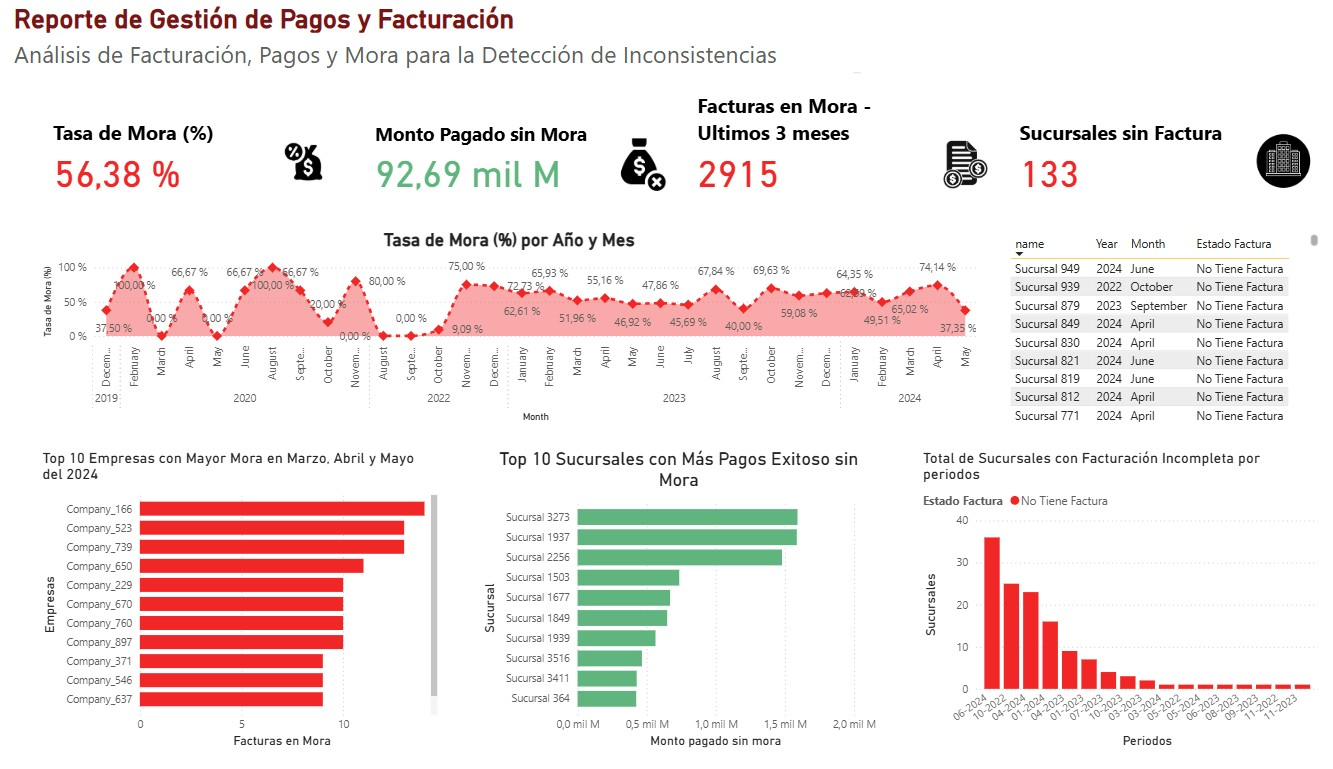

The dashboard page shown, as its layout file describes it:
{"tool":"powerbi","page":{"name":"Dashboard","canvas":[1600,900],"ordinal":0},"visuals":[{"type":"image","box":[1172.6,396.2,107.4,107.4],"z":0},{"type":"shape","box":[71.3,260.4,1467.6,618.2],"z":1000},{"type":"cardVisual","title":"Card Panel/KPIs","fields":{"Data":["T_facturas.Tasa de Mora (%)","T_facturas.MontoPagadoSinMora","T_facturas.Total_FacturasMora","T_sucursales.Total_NoTieneFactura"]},"box":[71.3,107.6,1477.8,139.6],"z":2000},{"type":"textbox","title":"Reporte de Gestión de Pagos y Facturación","box":[39.3,23.3,916.4,84.4],"z":3000},{"type":"areaChart","title":"Tasa de Mora (%) por Año y Mes","fields":{"Category":["T_facturas.period.Variation.Date Hierarchy.Year","T_facturas.period.Variation.Date Hierarchy.Month"],"Y":["T_facturas.Tasa de Mora (%)"]},"box":[71.3,282.2,1076.4,224],"z":4000},{"type":"clusteredBarChart","title":"Top 10 Sucursales con Más Pagos Exitoso sin Mora","fields":{"Category":["T_sucursales.name"],"Y":["T_facturas.MontoPagadoSinMora"]},"box":[574.5,532.4,459.6,346.2],"z":5000},{"type":"tableEx","fields":{"Values":["T_sucursales.name","T_sucursales.starts_at.Variation.Date Hierarchy.Year","T_sucursales.starts_at.Variation.Date Hierarchy.Month","T_sucursales.Estado Factura"]},"box":[1176.7,282.2,362.2,224],"z":6000},{"type":"clusteredColumnChart","title":"Total de Sucursales con Facturación Incompleta por periodos","fields":{"Category":["T_sucursales.PeriodoSucursal"],"Y":["CountNonNull(T_sucursales.name)"],"Series":["T_sucursales.Estado Factura"]},"box":[1077.8,532.4,461.1,346.2],"z":7000},{"type":"clusteredBarChart","title":"Top 10 Empresas con Mayor Mora en Marzo, Abril y Mayo del 2024","fields":{"Category":["T_compañias.name"],"Y":["T_facturas.Total_FacturasMora"]},"box":[71.3,532.4,461.1,346.2],"z":8000}]}

Visuals, with their boxes in screenshot pixels (x1, y1, x2, y2), scaled from the page's 1600x900 canvas onto the 1333x769 screenshot:
image: crop(977, 339, 1066, 430)
shape: crop(59, 222, 1282, 751)
"Card Panel/KPIs" cardVisual: crop(59, 92, 1291, 211)
"Reporte de Gestión de Pagos y Facturación" textbox: crop(33, 20, 796, 92)
"Tasa de Mora (%) por Año y Mes" areaChart: crop(59, 241, 956, 433)
"Top 10 Sucursales con Más Pagos Exitoso sin Mora" clusteredBarChart: crop(479, 455, 862, 751)
tableEx - T_sucursales.name x T_sucursales.starts_at.Variation.Date Hierarchy.Year: crop(980, 241, 1282, 433)
"Total de Sucursales con Facturación Incompleta por periodos" clusteredColumnChart: crop(898, 455, 1282, 751)
"Top 10 Empresas con Mayor Mora en Marzo, Abril y Mayo del 2024" clusteredBarChart: crop(59, 455, 444, 751)
